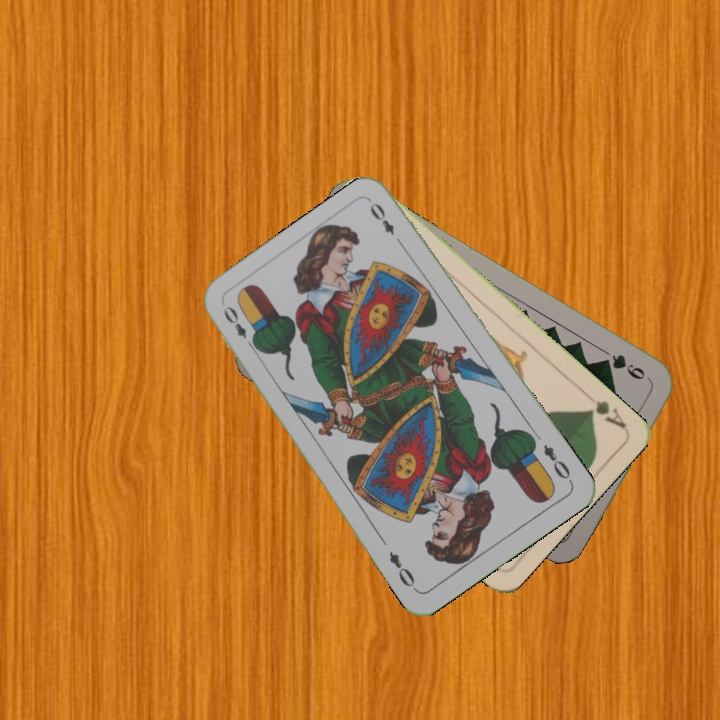EO: (219, 301, 259, 353), (539, 440, 575, 486)
G9: (597, 350, 648, 382)
GA: (579, 387, 629, 432)
